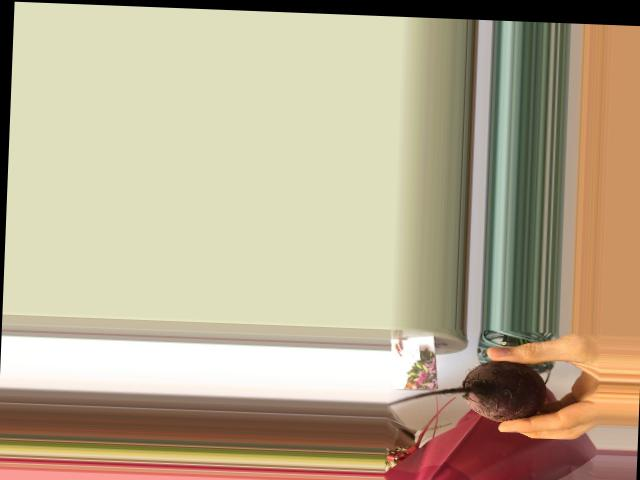beet: (385, 356, 549, 423)
